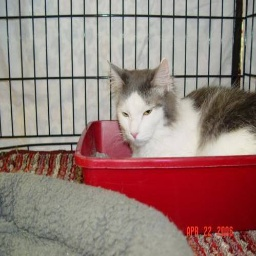cat: (102, 57, 256, 157)
